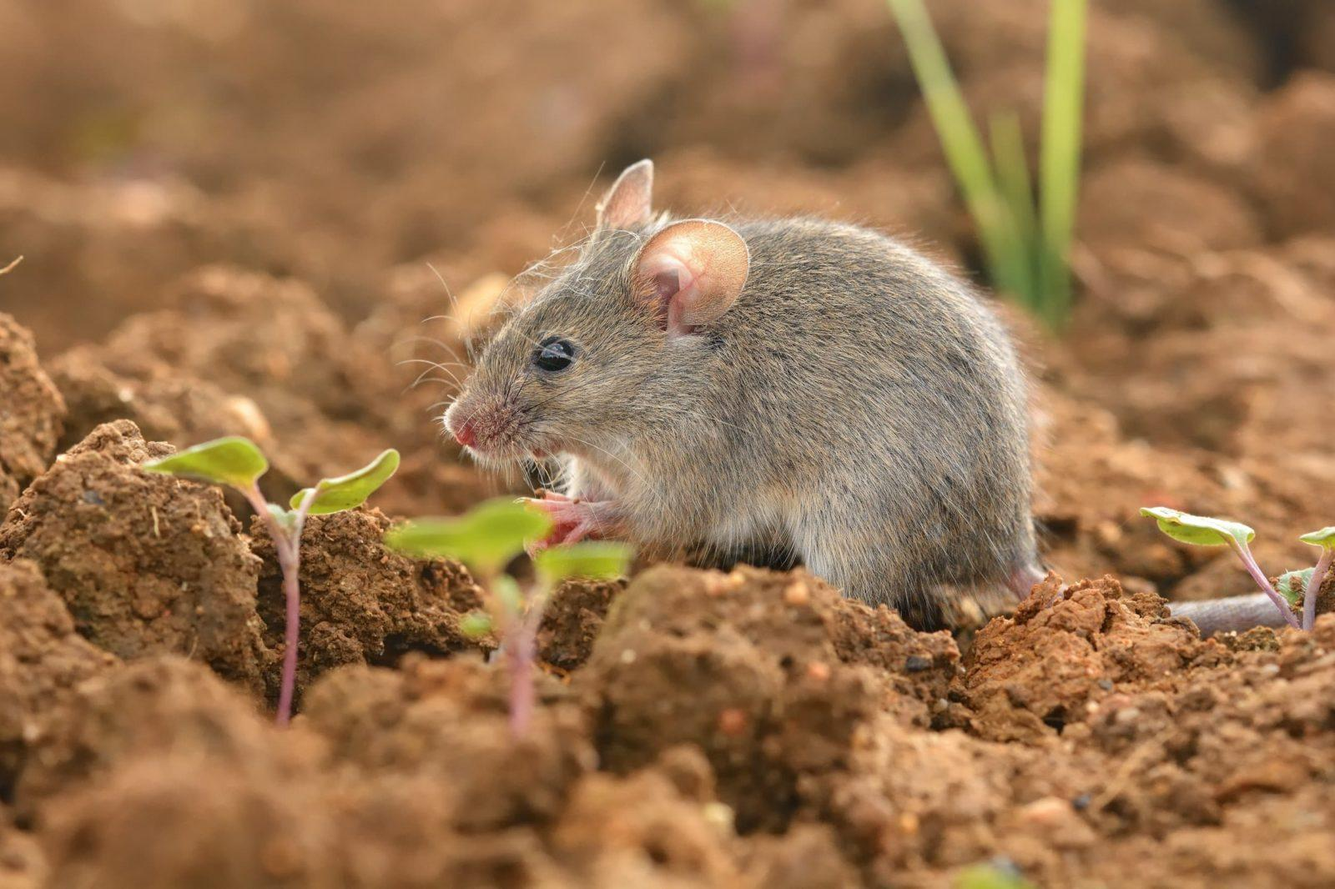rat: (443, 160, 1045, 610)
